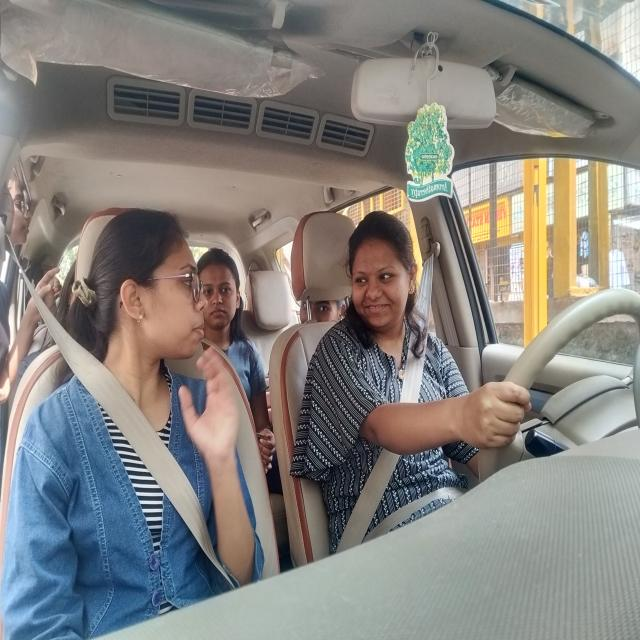LeftRight: (345, 209, 432, 337)
person: (92, 203, 211, 376), (197, 237, 245, 336), (294, 292, 346, 323)
talking: (363, 305, 390, 321)
